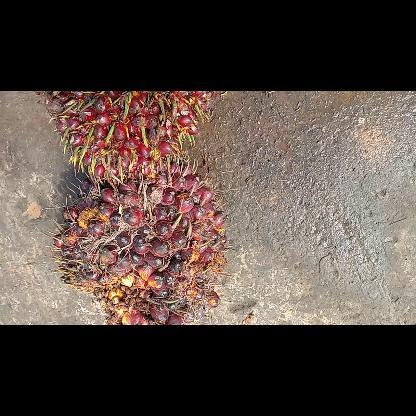Kurang masak: (45, 91, 211, 183)
TBS masak: (52, 152, 233, 324)
